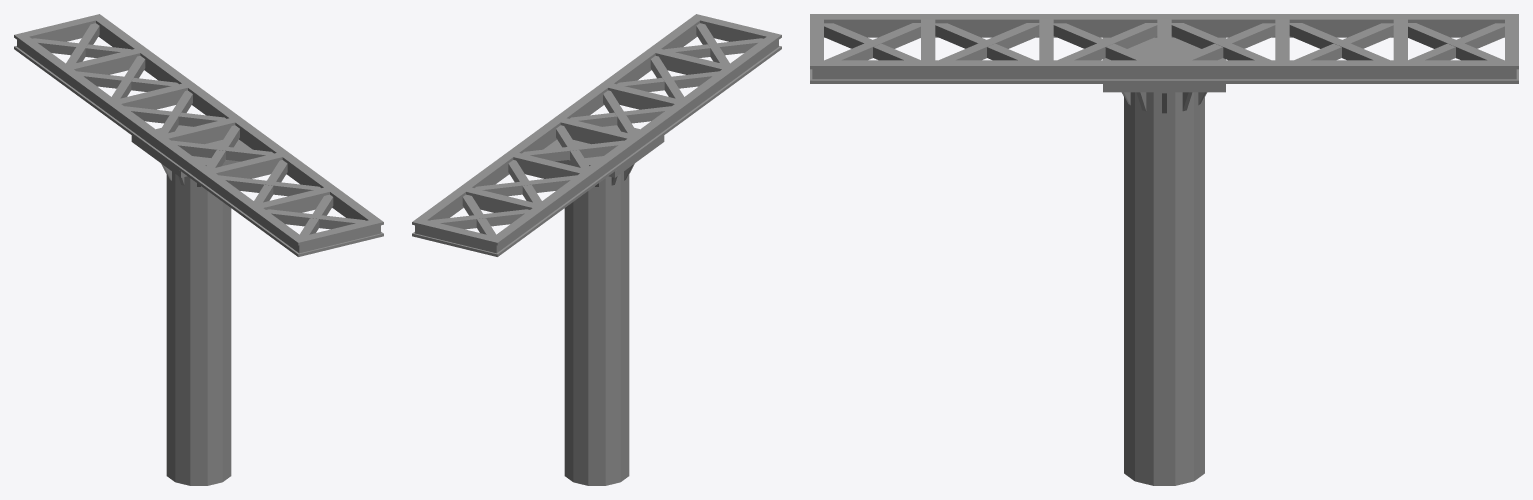
Rendered from Signboard_Support_01.FBX.
3 renders of one model, left to right at view 1: azimuth 30°, elevation 25°; view 2: azimuth 150°, elevation 25°; view 3: azimuth 270°, elevation 25°, orthographic. The views are drawn at different scales.
Visible parts, largest first — view 1: Signboard_Support_01_LOD0; view 2: Signboard_Support_01_LOD0; view 3: Signboard_Support_01_LOD0.
Boxes of the visible parts, box(x1,y1,x2,y2) form: Signboard_Support_01_LOD0: box(14, 14, 383, 485); Signboard_Support_01_LOD0: box(412, 14, 781, 485); Signboard_Support_01_LOD0: box(810, 14, 1518, 485).
Size of what is drawn, in the model's own units: 42.75 by 164 by 246.
